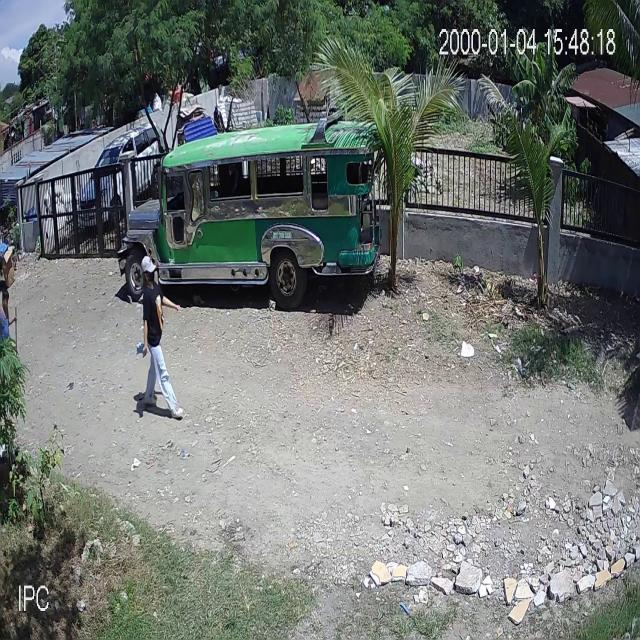walking: (136, 256, 182, 417)
